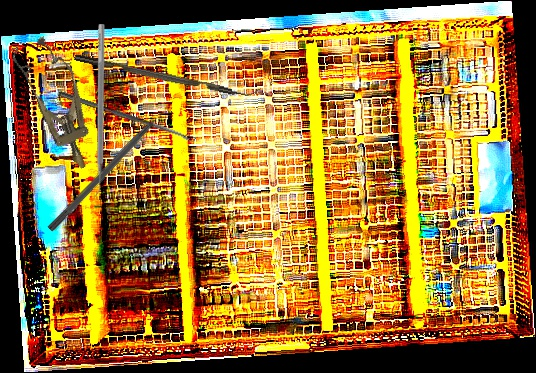Chopper: (74, 45, 261, 103)
Pusher: (46, 102, 175, 234)
Spatula Surgical: (91, 24, 105, 199)
Speculum: (7, 31, 108, 178)
Surgical Spoon: (57, 90, 197, 144)
